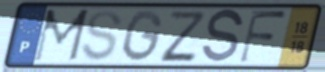F: (236, 8, 290, 66)
G: (120, 9, 165, 64)
M: (31, 8, 92, 64)
S: (199, 7, 246, 67), (79, 8, 124, 63)
Z: (158, 9, 206, 64)
